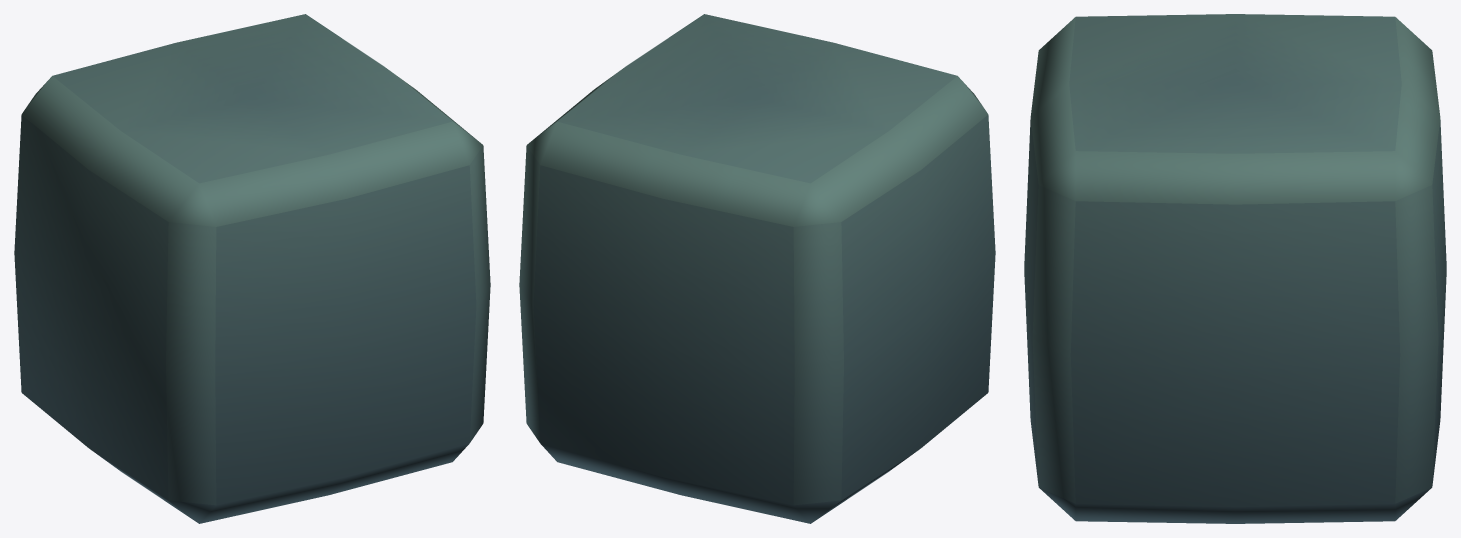
The model's file is cube_01_shade_3_LOD_setup.fbx.
The picture shows the model from 3 angles, left to right: view 1: azimuth 30°, elevation 25°; view 2: azimuth 150°, elevation 25°; view 3: azimuth 270°, elevation 25°; orthographic projection. The views are drawn at different scales.
Parts seen in each view (by area): view 1: cube_01_shade_3_LOD0; view 2: cube_01_shade_3_LOD0; view 3: cube_01_shade_3_LOD0.
Part boxes in pixels (x1,y1,x2,y2): cube_01_shade_3_LOD0: (14, 14, 490, 523); cube_01_shade_3_LOD0: (519, 14, 995, 523); cube_01_shade_3_LOD0: (1024, 14, 1446, 523).
Size of what is drawn, in the model's own units: 57.15 by 55.02 by 56.94.
